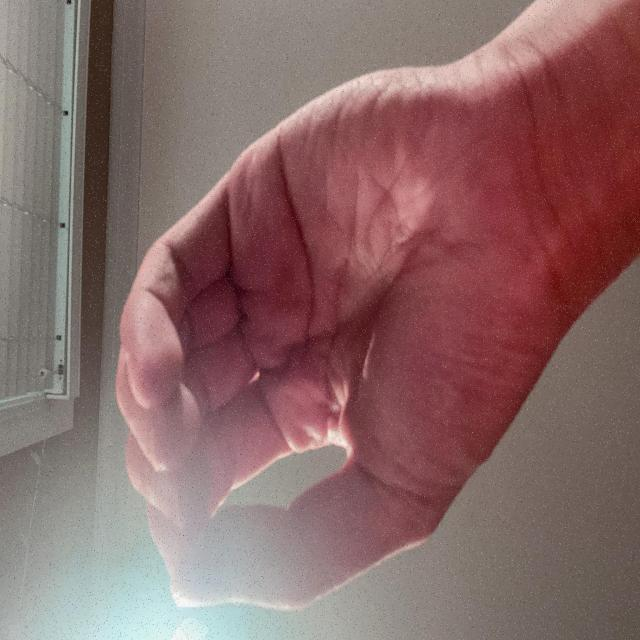O: (15, 144, 468, 640)
